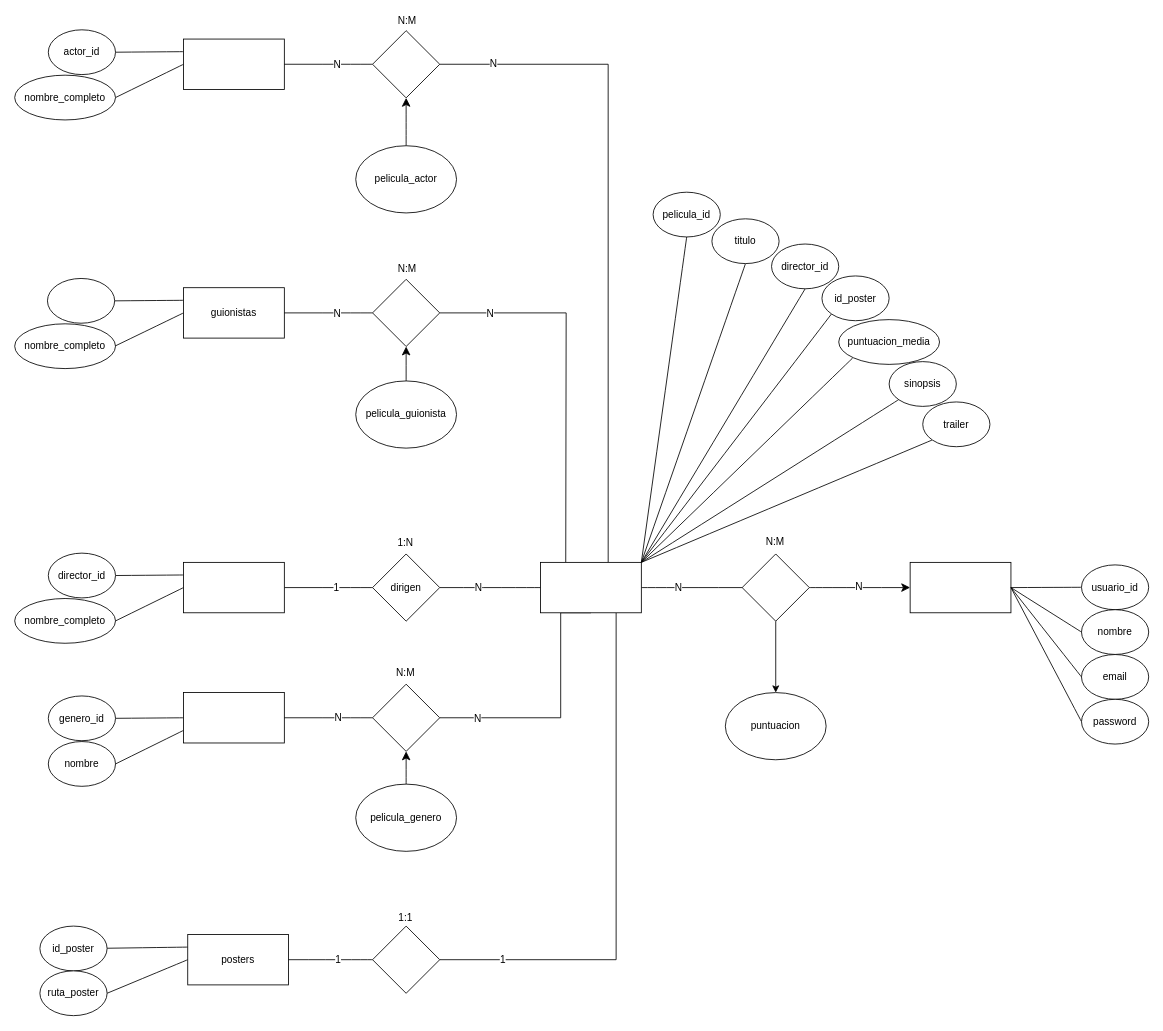
This 1163x1031 diagram has some shape labels left out. The shapes that lost their labels are listed below. From the top down, each one's box as (x1, y1, x2, y2) in pixels, then its label:
(183, 38, 284, 89): actores
(372, 30, 440, 98): actuan
(47, 278, 115, 323): guionista_id
(372, 278, 440, 346): guionizan
(183, 562, 284, 613): directores
(540, 562, 641, 613): peliculas
(741, 553, 809, 621): puntuan
(909, 562, 1011, 613): usuarios
(183, 692, 284, 743): generos
(372, 683, 440, 751): pertenece
(372, 925, 440, 993): ilustran
